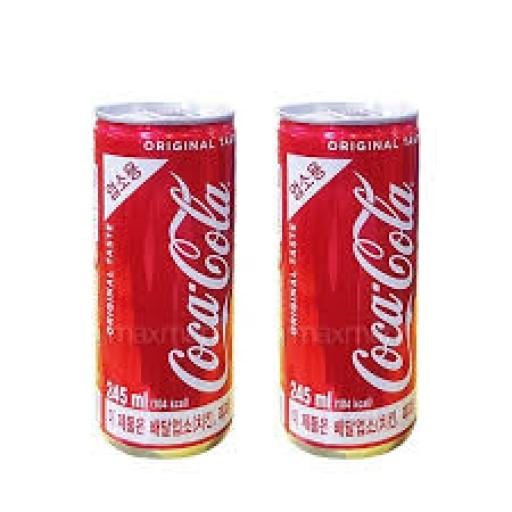Coca: (268, 96, 422, 467), (87, 96, 242, 462)
